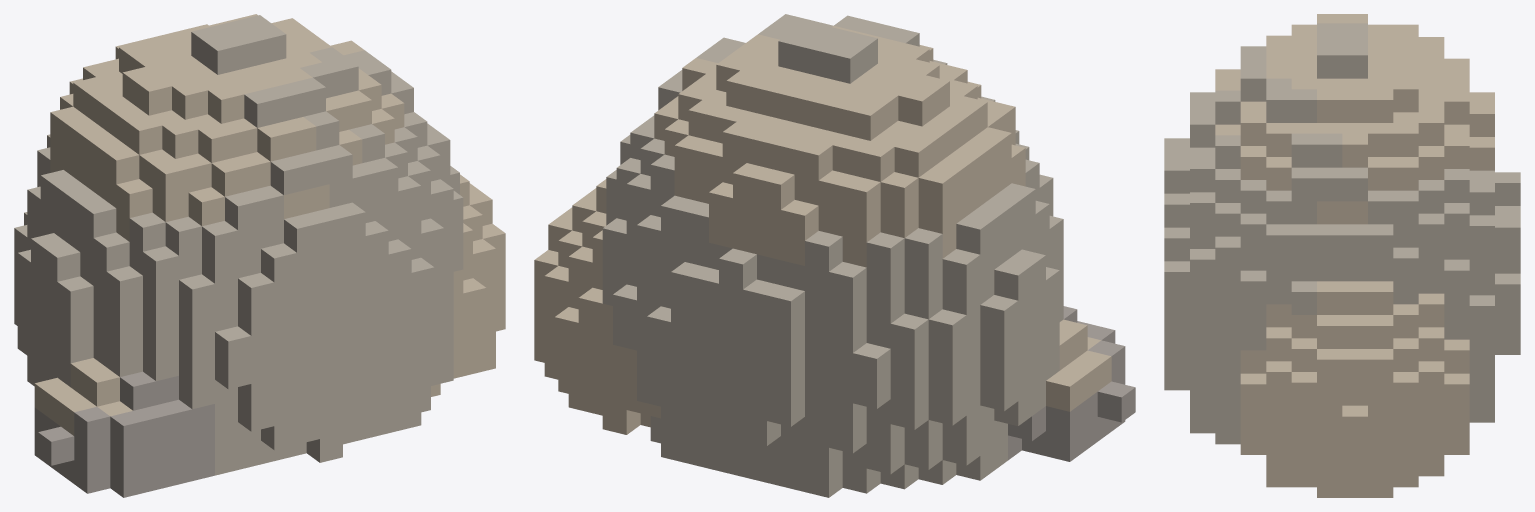
The model's file is large_savanna_boulder.glb.
The picture shows the model from 3 angles, left to right: view 1: azimuth 30°, elevation 25°; view 2: azimuth 150°, elevation 25°; view 3: azimuth 270°, elevation 25°; orthographic projection. The views are drawn at different scales.
Bounding box in the file's own units: 0.9167 × 0.625 × 0.5833.
